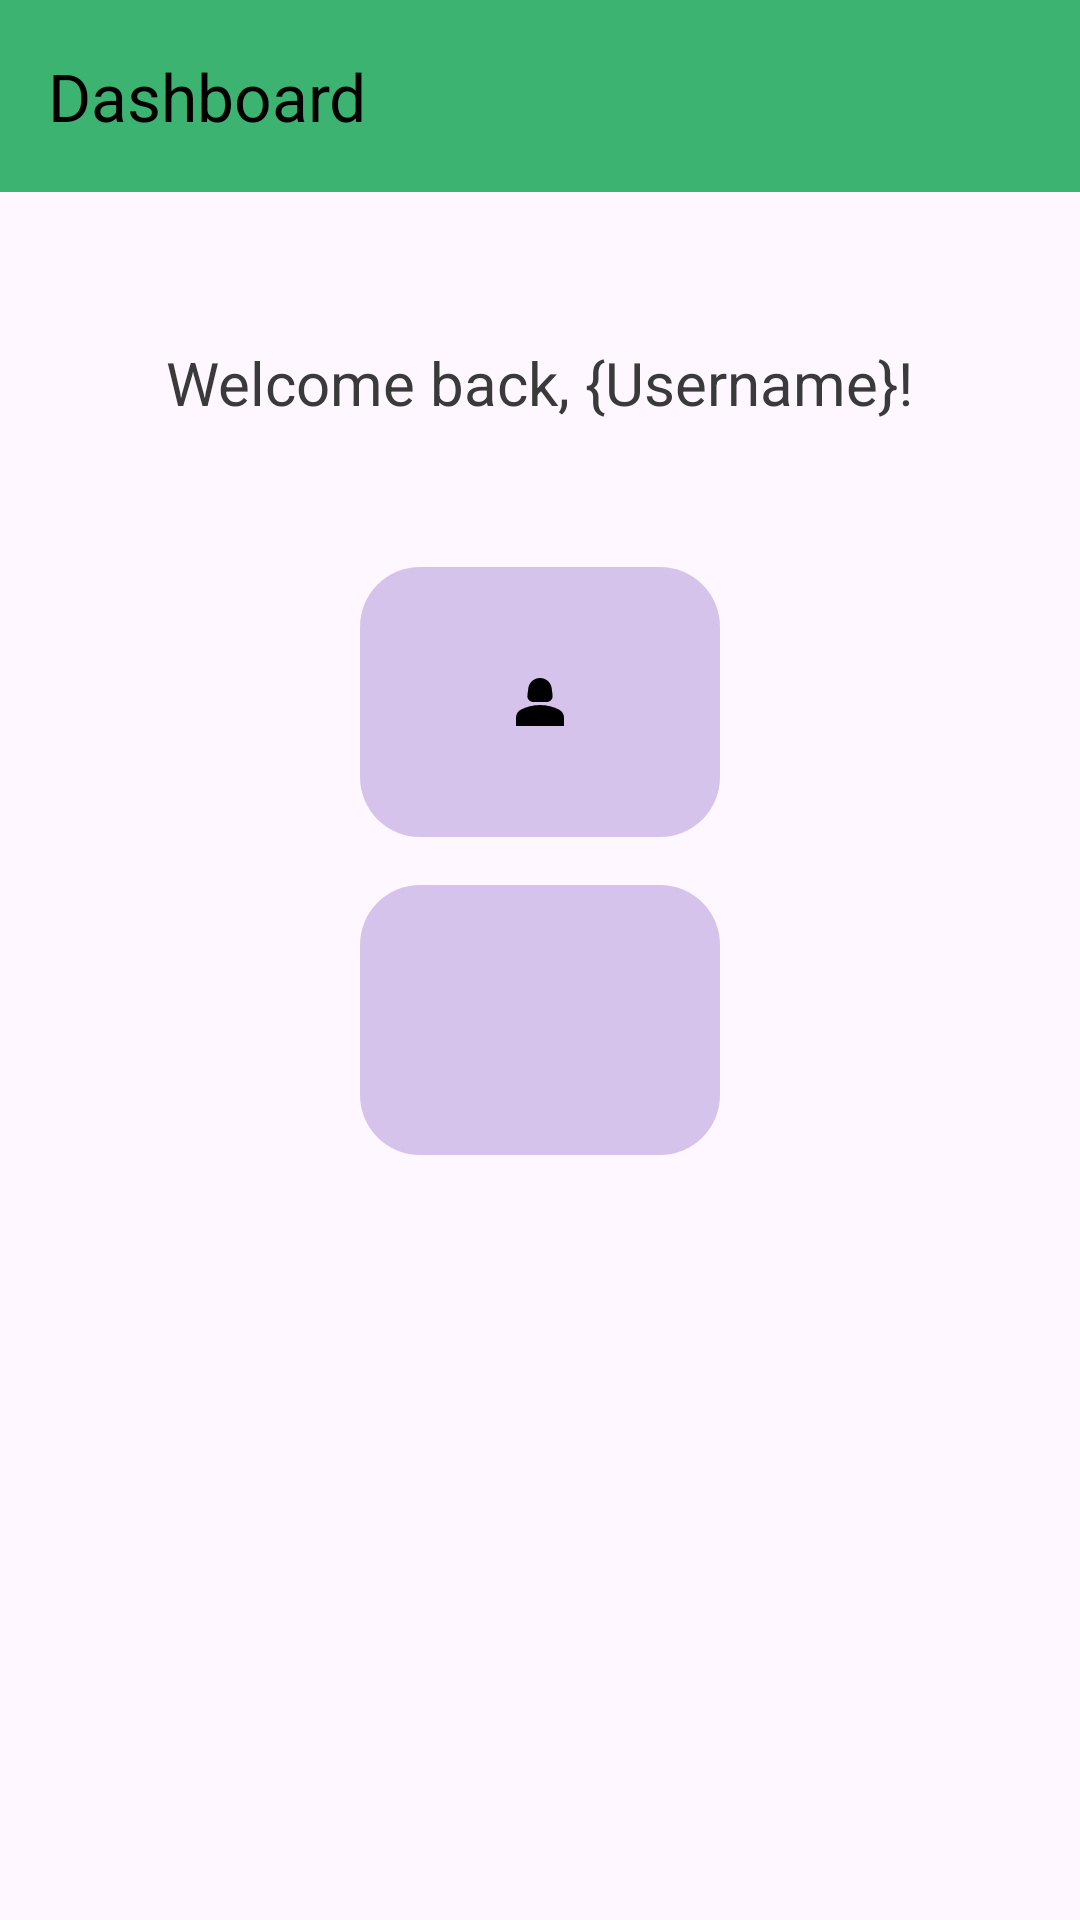

Named icons in this screenshot (1080*1920) and their bounding boxes, (x1, y1, x2, y2):
person: (360, 567, 720, 837)
